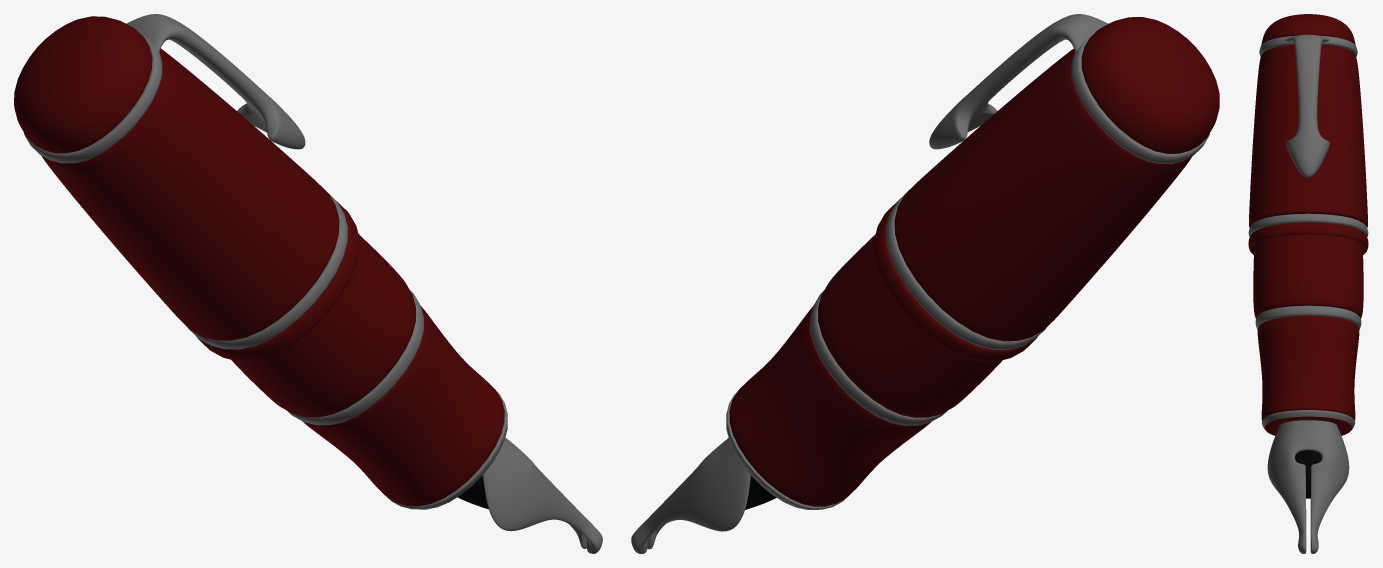
The model's file is pen.fbx.
The picture shows the model from 3 angles, left to right: view 1: azimuth 30°, elevation 25°; view 2: azimuth 150°, elevation 25°; view 3: azimuth 270°, elevation 25°; orthographic projection. The views are drawn at different scales.
Parts seen in each view (by area): view 1: HeroObjectGroup, pen 2; view 2: HeroObjectGroup, pen 2; view 3: HeroObjectGroup, pen 2.
Part boxes in pixels (x1,y1,x2,y2): HeroObjectGroup: [14, 14, 602, 553]; pen 2: [286, 290, 507, 509]; HeroObjectGroup: [631, 14, 1219, 553]; pen 2: [726, 291, 946, 509]; HeroObjectGroup: [1248, 14, 1368, 553]; pen 2: [1255, 305, 1361, 429].
Size of the model in its own units: 4.28 by 4.6 by 1.27.
